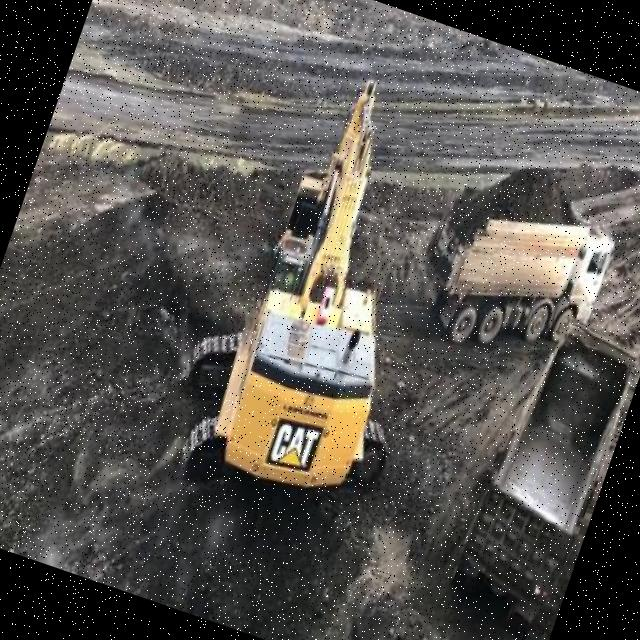Dump Truck: (435, 299, 640, 640), (403, 156, 627, 380)
Excavator: (139, 51, 501, 566)
